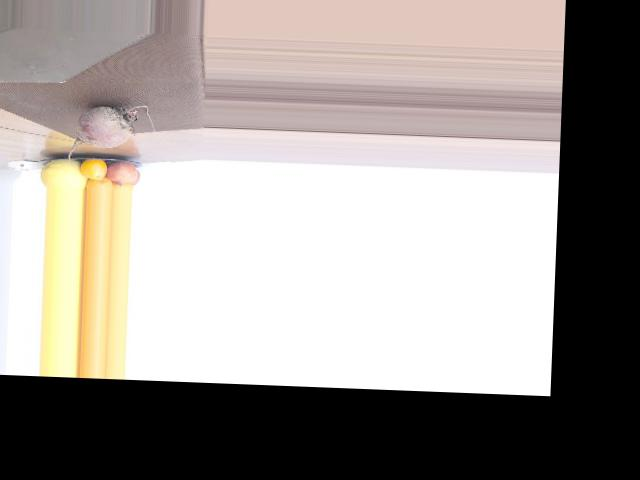beet: (67, 102, 155, 169)
